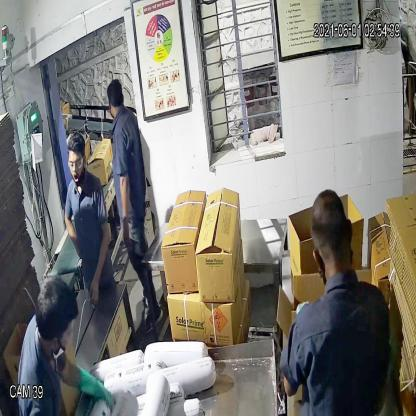goggles: (66, 149, 89, 176)
